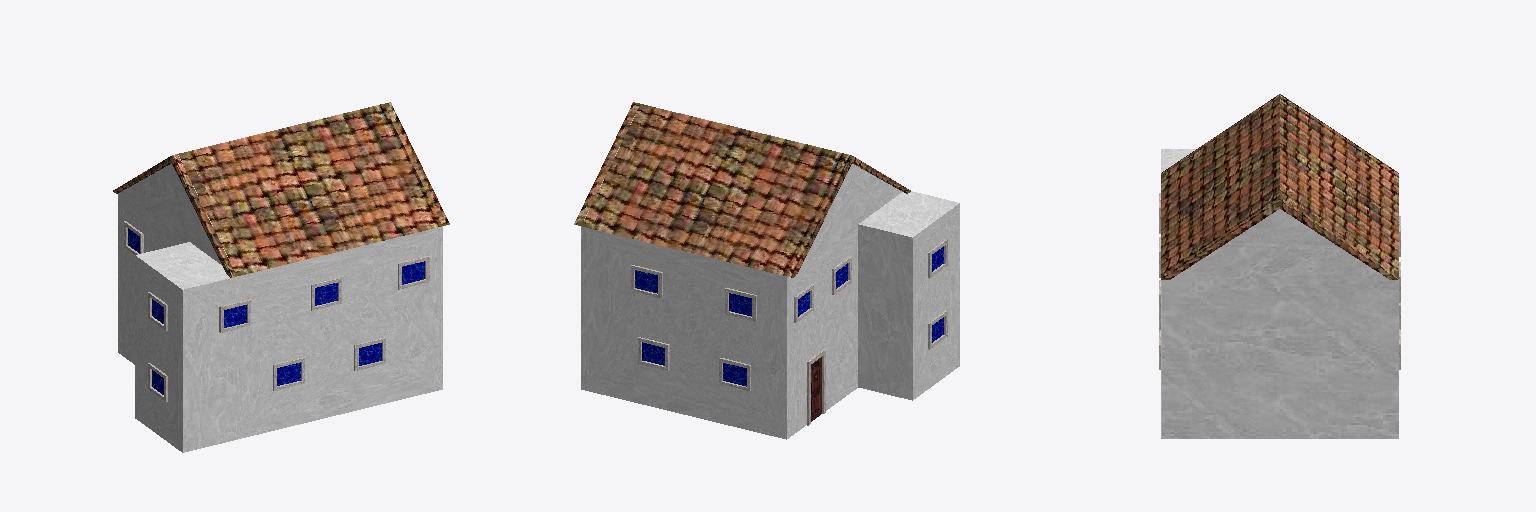
3 views of the same model, side by side, from view 1: azimuth 30°, elevation 25°; view 2: azimuth 150°, elevation 25°; view 3: azimuth 270°, elevation 25° (orthographic).
Parts seen in each view (by area): view 1: Cube_Cube; view 2: Cube_Cube; view 3: Cube_Cube.
Part boxes in pixels (x1,y1,x2,y2): Cube_Cube: (113,102,449,452); Cube_Cube: (574,102,959,439); Cube_Cube: (1159,94,1400,438).
Bounding box in the file's own units: 227 × 195 × 177.
Materials: 6 (1 with a texture image).